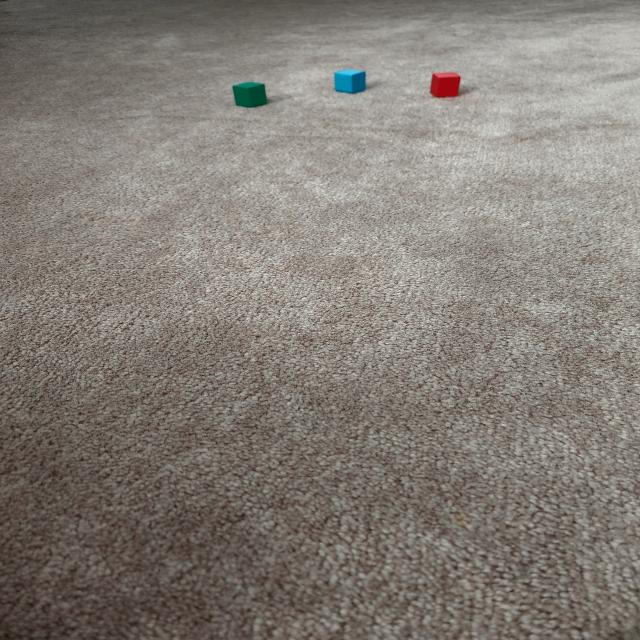bluecube: (333, 68, 368, 94)
green cube: (233, 80, 268, 108)
red cube: (432, 72, 461, 98)
